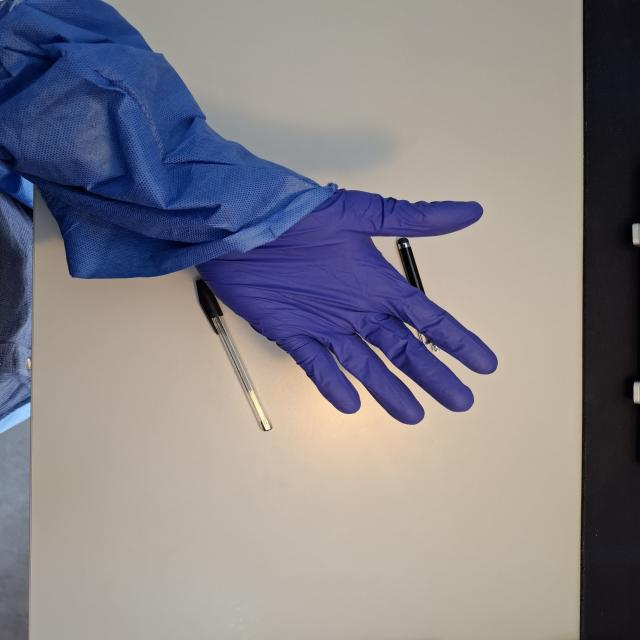glove_on: (190, 174, 501, 427)
